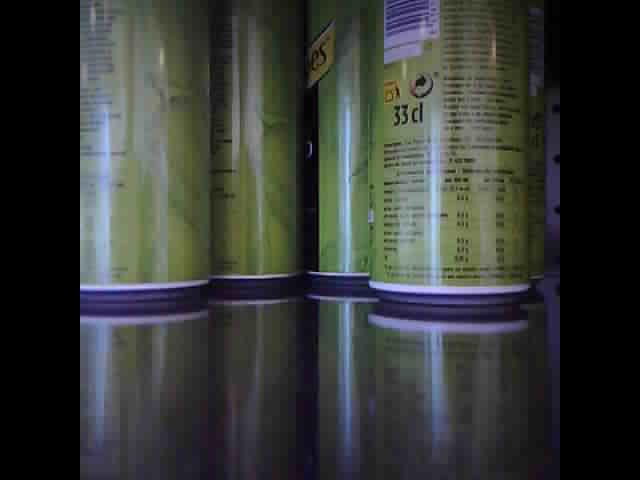schweppes: (366, 1, 532, 305), (80, 5, 212, 302), (210, 1, 297, 291), (302, 1, 371, 283)
